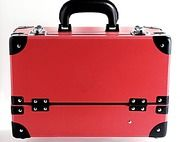shoutibox: (6, 0, 173, 142)
